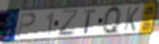1: (46, 12, 55, 36)
K: (122, 6, 141, 33)
P: (15, 12, 36, 39)
Q: (102, 5, 122, 35)
T: (82, 8, 98, 35)
Z: (58, 8, 81, 37)
